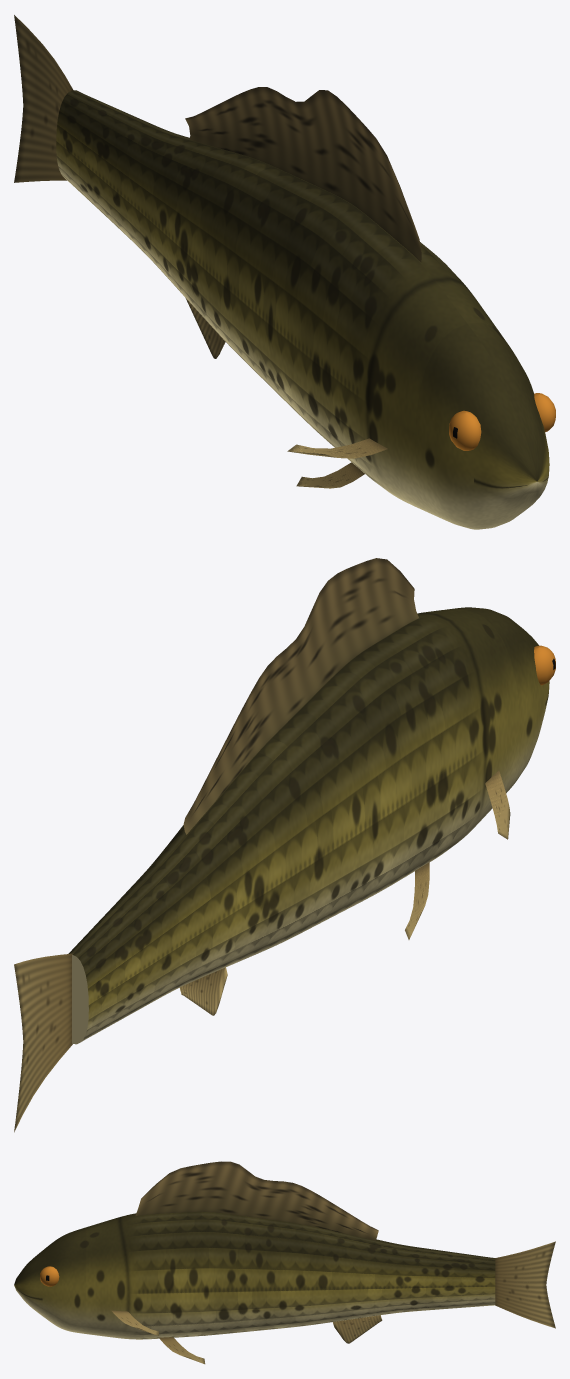
The model's file is ruffe.obj.
The picture shows the model from 3 angles, top to bottom: view 1: azimuth 30°, elevation 25°; view 2: azimuth 150°, elevation 25°; view 3: azimuth 270°, elevation 25°; orthographic projection. The views are drawn at different scales.
Parts seen in each view (by area): view 1: ruffe_body, ruffe_fin_d, ruffe_fin_p, ruffe_iris; view 2: ruffe_body, ruffe_fin_d, ruffe_fin_p; view 3: ruffe_body, ruffe_fin_d, ruffe_fin_p, ruffe_iris.
Boxes of the visible parts, left/top/right/bottom form: ruffe_body: left=56, top=90, right=549, bottom=529; ruffe_fin_d: left=185, top=87, right=421, bottom=262; ruffe_fin_p: left=14, top=15, right=387, bottom=488; ruffe_iris: left=449, top=393, right=555, bottom=450; ruffe_body: left=68, top=607, right=549, bottom=1044; ruffe_fin_d: left=183, top=558, right=418, bottom=834; ruffe_fin_p: left=14, top=770, right=510, bottom=1132; ruffe_body: left=14, top=1211, right=495, bottom=1339; ruffe_fin_d: left=135, top=1161, right=378, bottom=1240; ruffe_fin_p: left=111, top=1241, right=555, bottom=1364; ruffe_iris: left=40, top=1266, right=59, bottom=1286.
Bounding box in the file's own units: 0.0384 × 0.0606 × 0.1576.
Materials: 5 (3 with a texture image).
